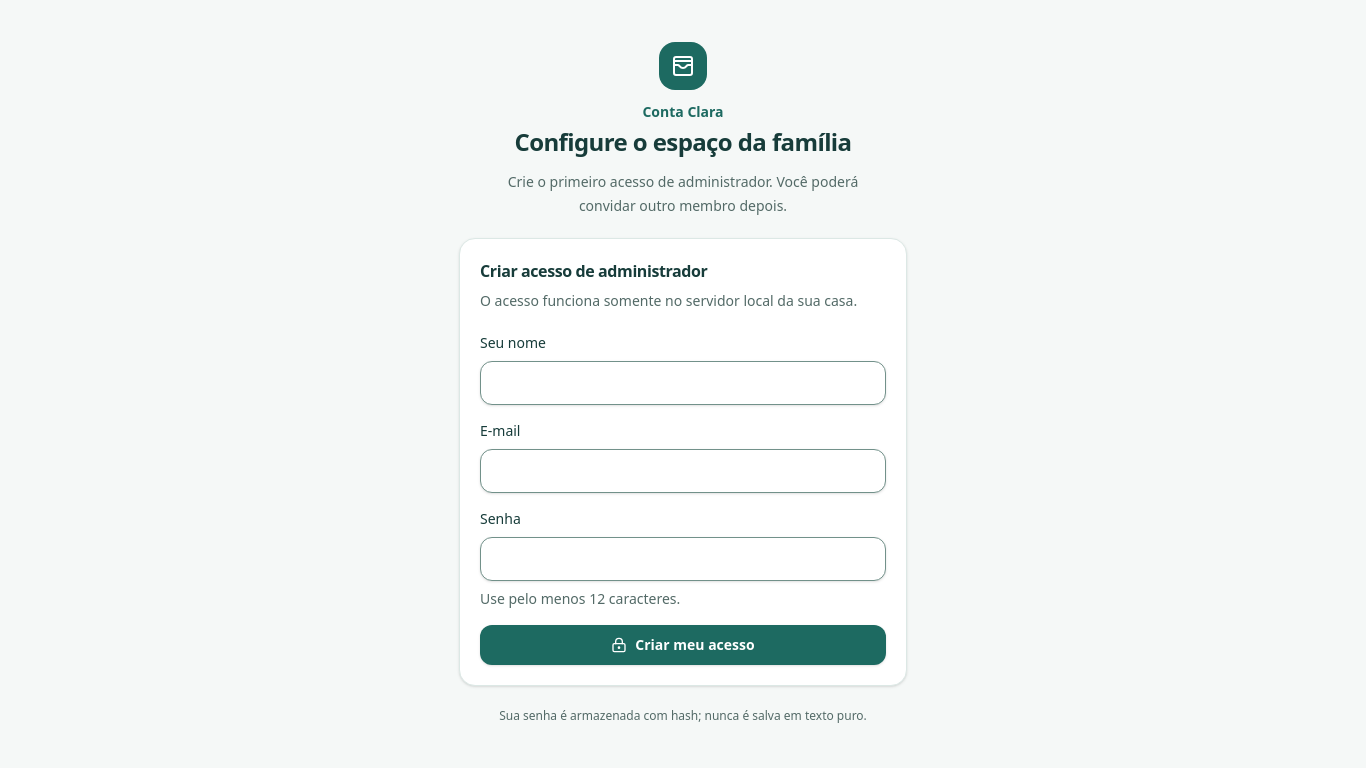
Test case: authentication interface › submits the one-time administrator setup and opens the shared application
Step 1. Type "  Pessoa de teste  " into the field labelled "Seu nome" → x=683, y=383, box left=480, top=361, right=886, bottom=405
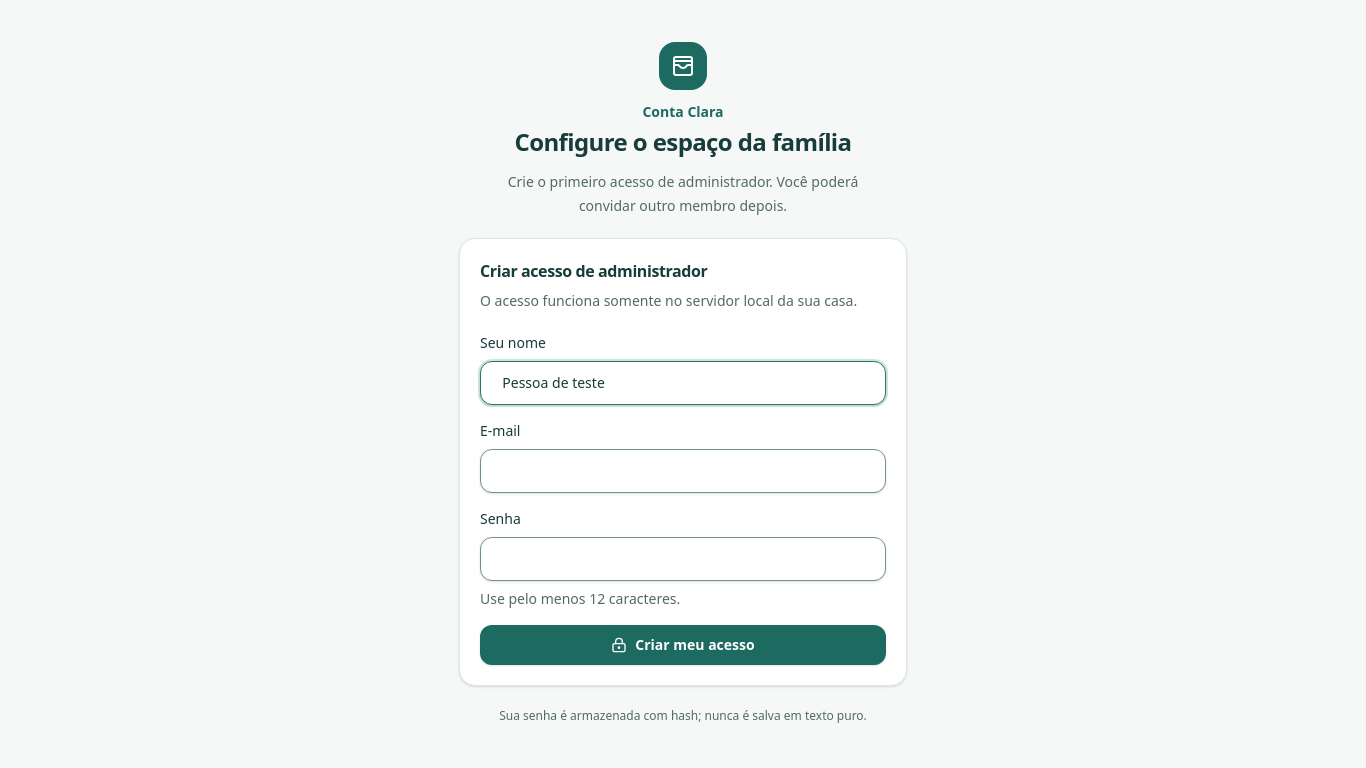
Step 2. Type "pessoa@example.test" into the field labelled "E-mail" → x=683, y=471, box left=480, top=449, right=886, bottom=493
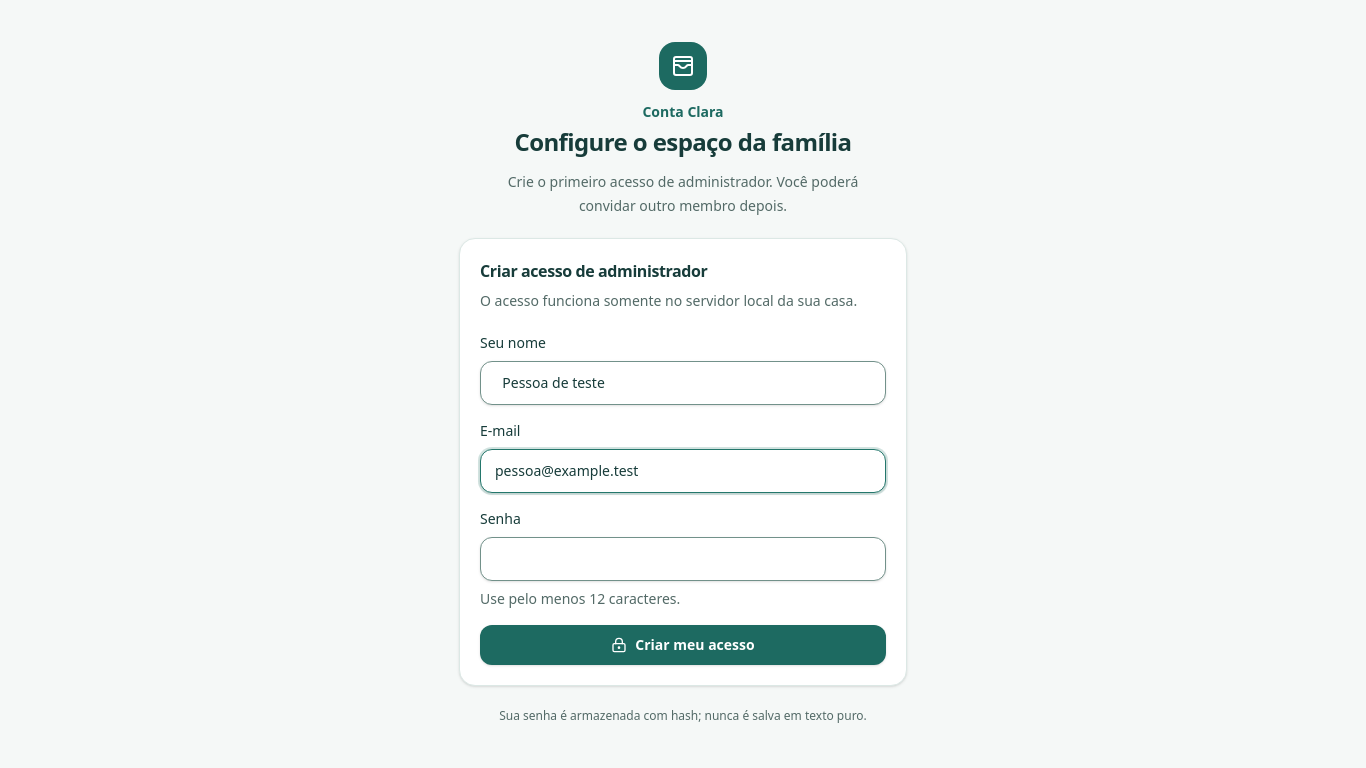
Step 3. Type "senha-segura-123" into the password field labelled "Senha" → x=683, y=559, box left=480, top=537, right=886, bottom=581
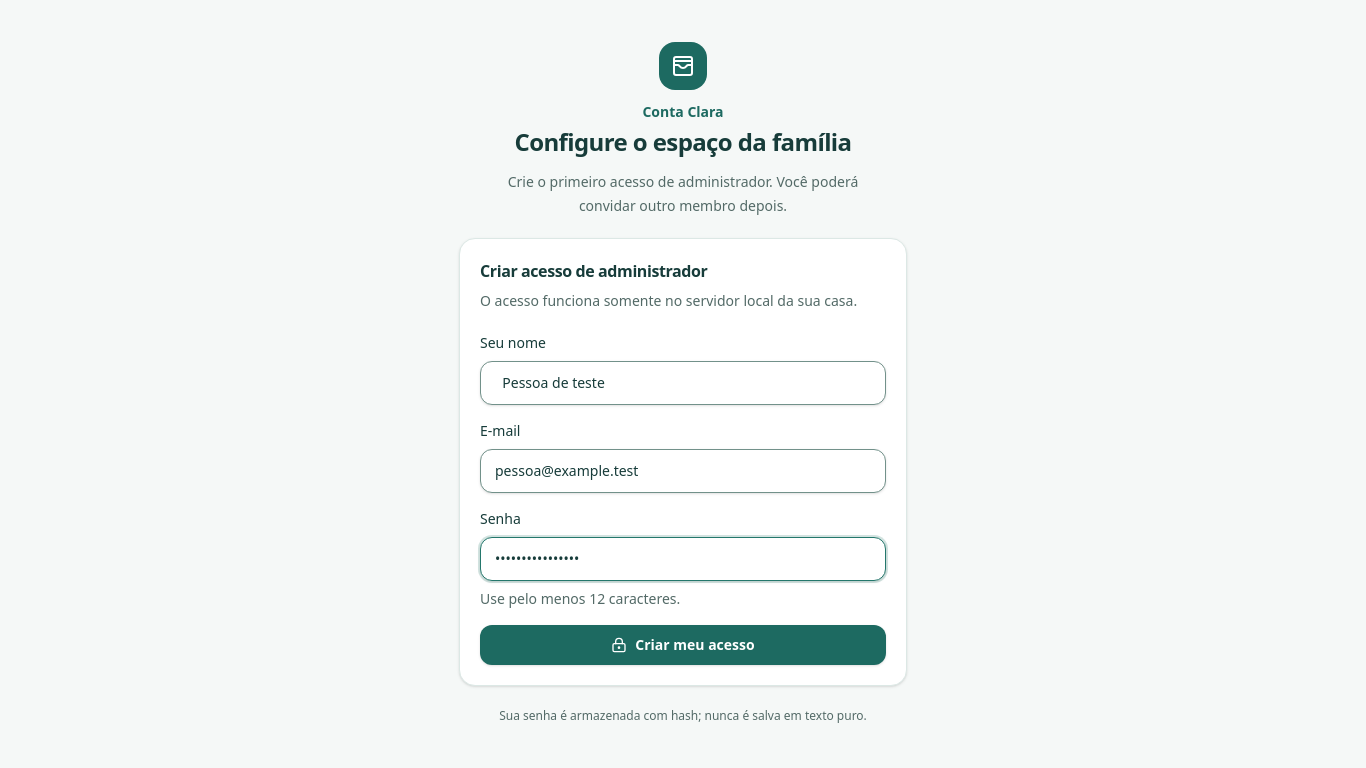
Step 4. Click the button "Criar meu acesso" → x=683, y=645, box left=480, top=625, right=886, bottom=665
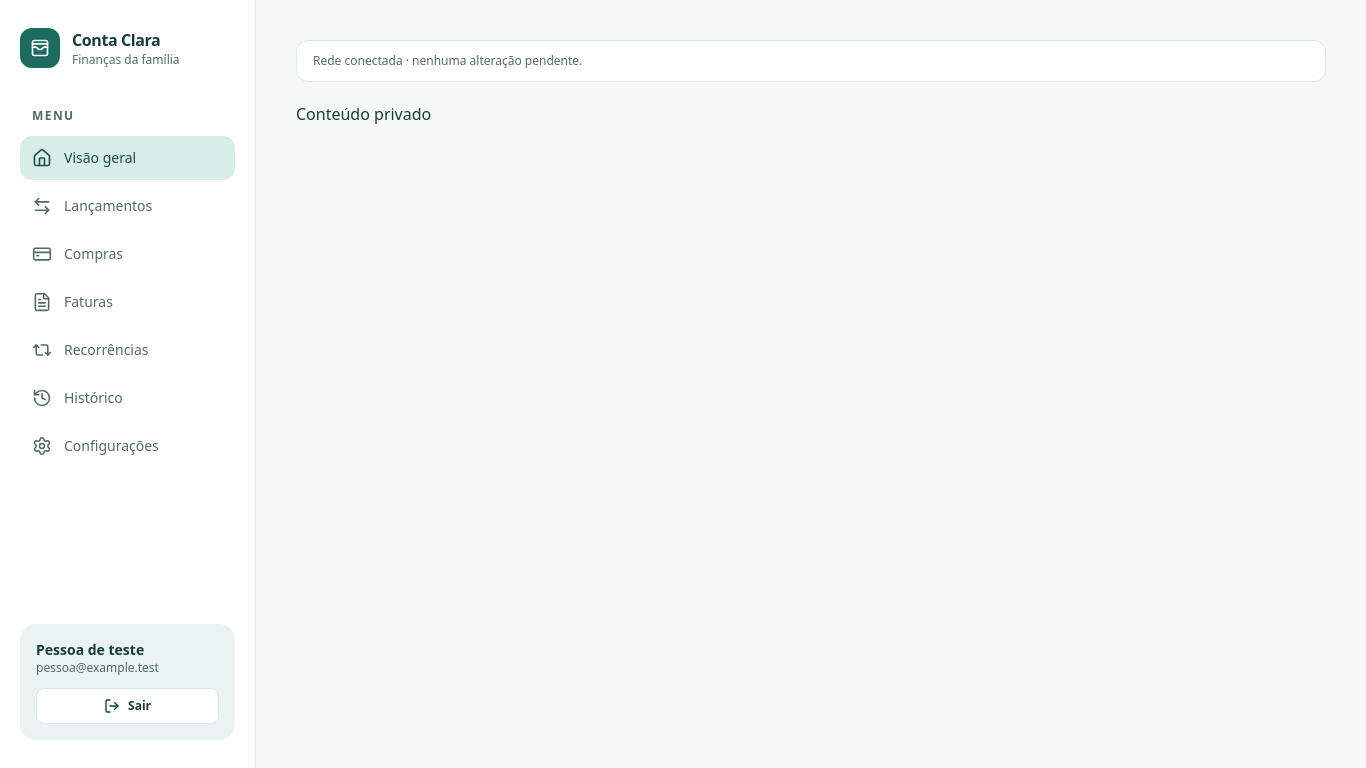
Expected: the text "Conteúdo privado" is shown, left=296, top=103, right=431, bottom=125
